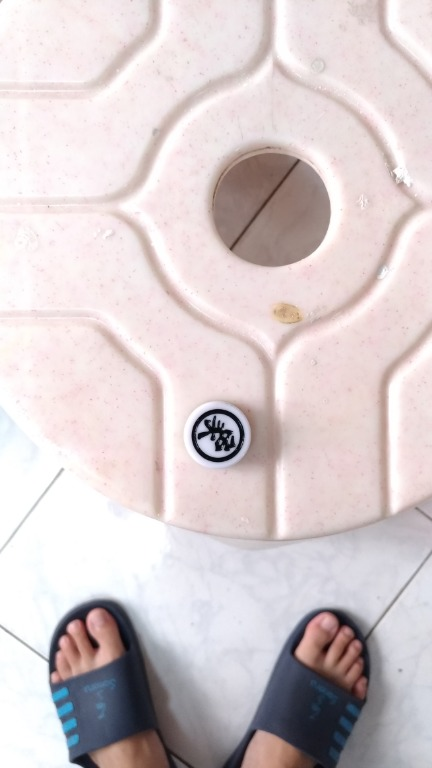b-elephant: (175, 399, 270, 476)
